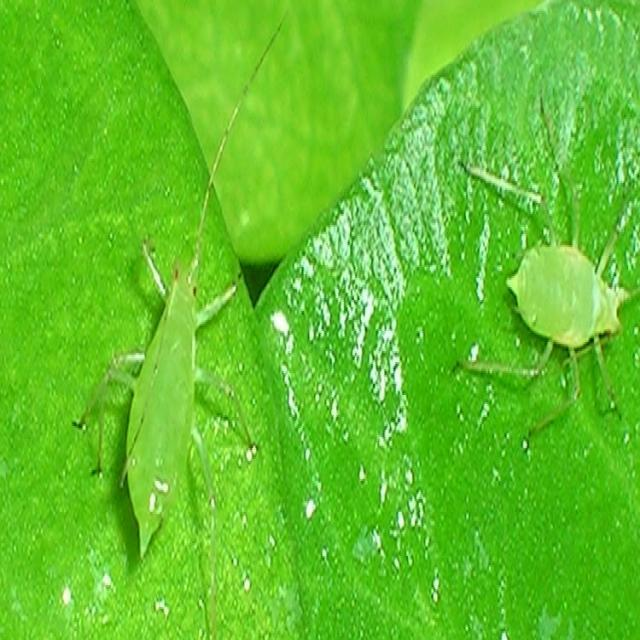Aphids: (73, 156, 244, 596), (448, 104, 637, 467)
